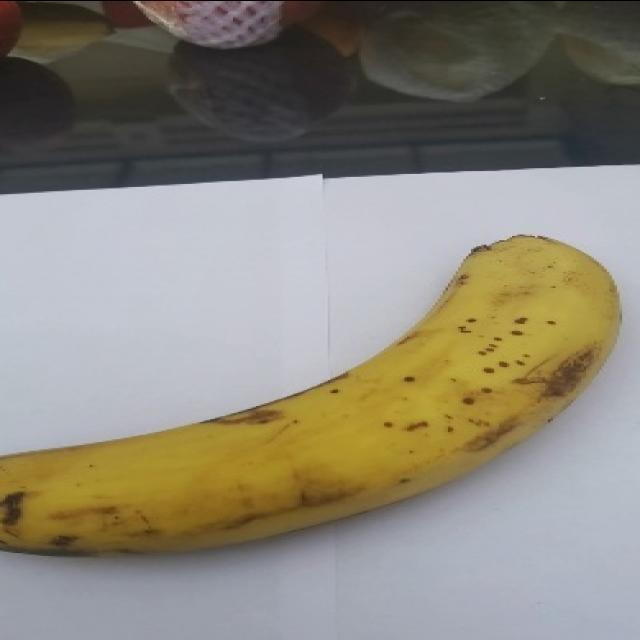Banana: (0, 236, 624, 560)
